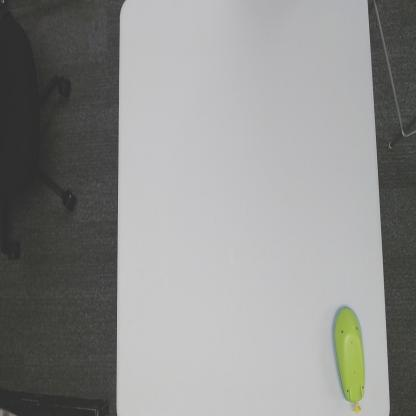Boat: (330, 301, 375, 416)
